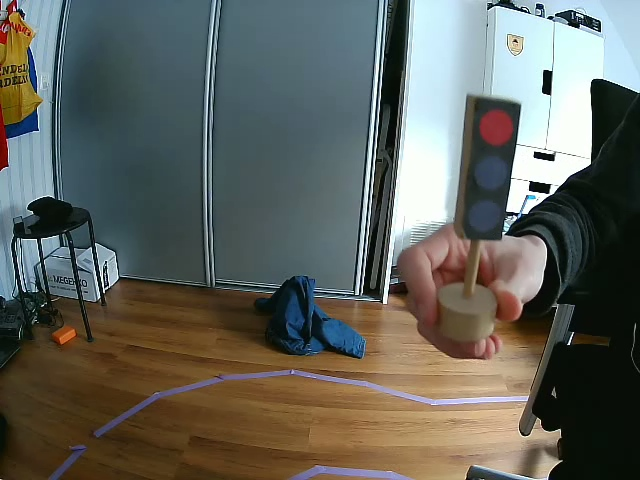roodlicht: (460, 98, 521, 238)
